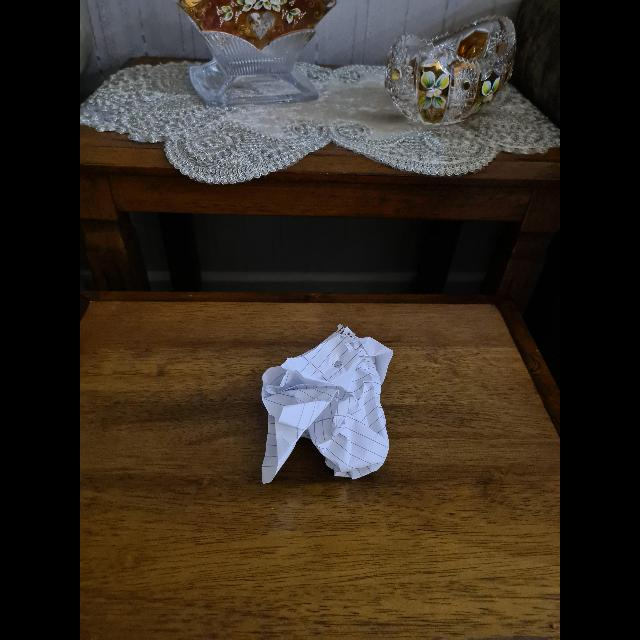scrap_paper: (260, 325, 396, 483)
